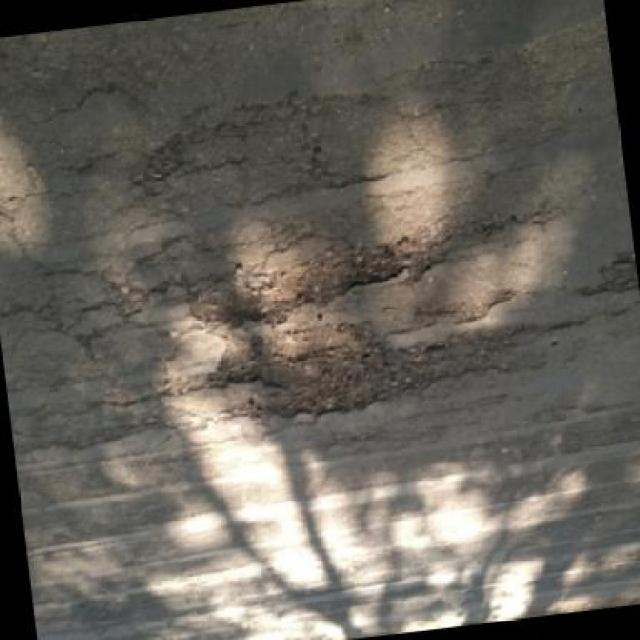pothole1: (178, 220, 450, 334), (202, 307, 444, 431)
